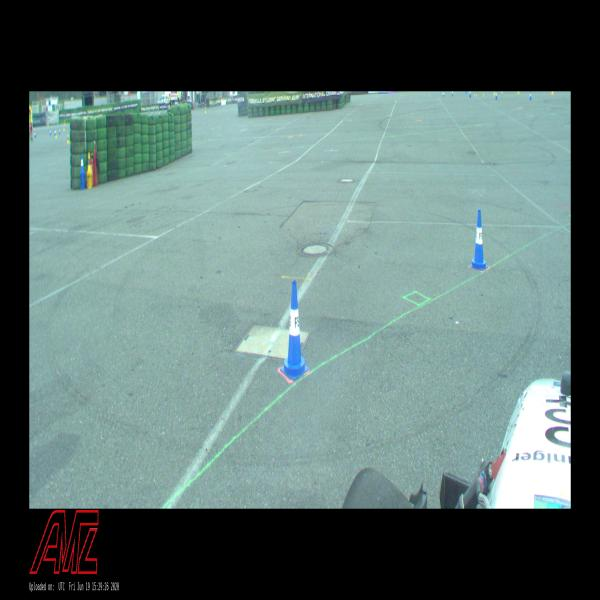blue_cone: (280, 280, 309, 380), (470, 209, 488, 271), (80, 154, 85, 173), (529, 91, 532, 100)
yellow_cone: (87, 153, 91, 172)
